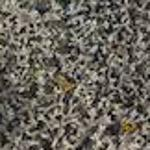alive: (4, 2, 147, 148)
